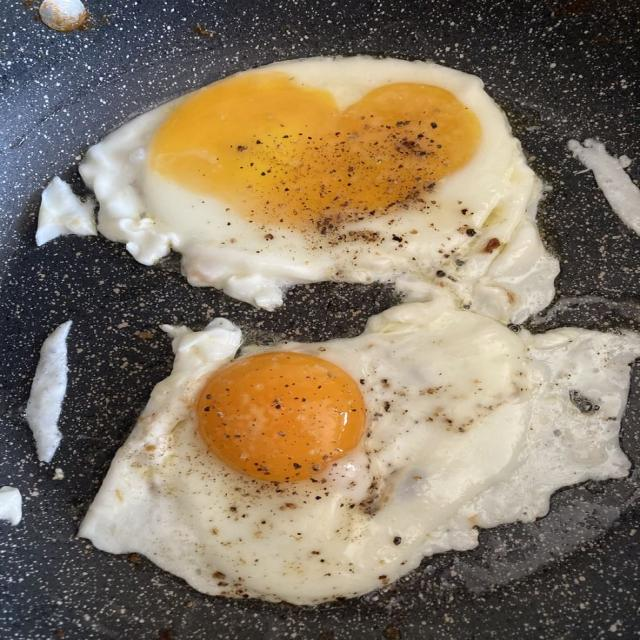fryed egg: (80, 291, 639, 604), (80, 57, 556, 319)
